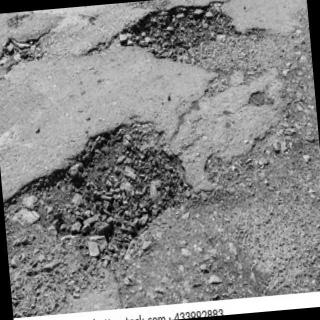pothole: (14, 124, 192, 259), (88, 2, 255, 61)
